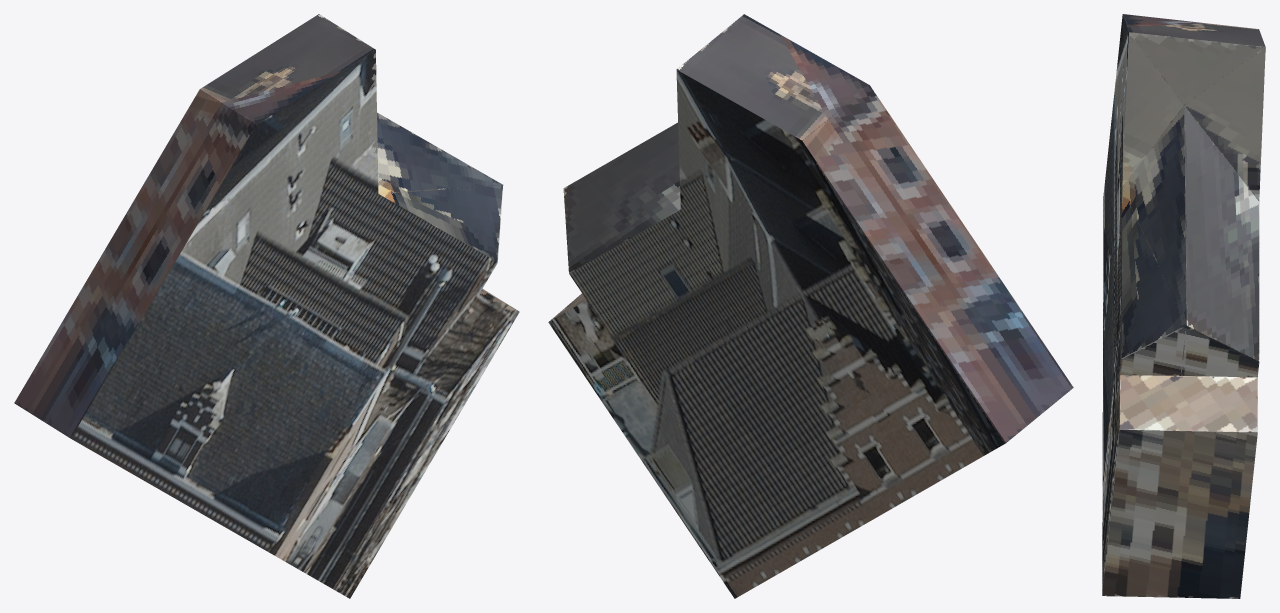
The picture shows the model from 3 angles, left to right: view 1: azimuth 30°, elevation 25°; view 2: azimuth 150°, elevation 25°; view 3: azimuth 270°, elevation 25°; orthographic projection. The views are drawn at different scales.
Visible parts, largest first — view 1: BAG_0599100000671727 (×2); view 2: BAG_0599100000671727 (×2); view 3: BAG_0599100000671727 (×3).
Boxes of the visible parts, left/top/right/bottom form: BAG_0599100000671727 (×2): left=14, top=14, right=519, bottom=598; BAG_0599100000671727 (×2): left=548, top=14, right=1073, bottom=598; BAG_0599100000671727 (×3): left=1102, top=14, right=1265, bottom=598.
Size of the model in its own units: 20.63 by 22.45 by 5.65.
Materials: 3 (3 with a texture image).
